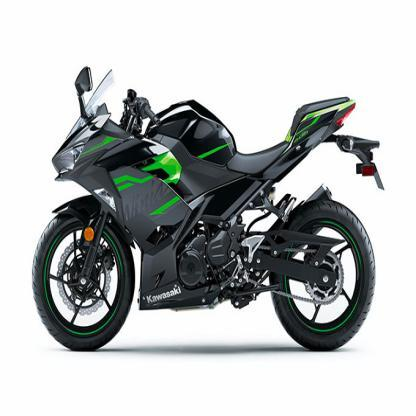Motorcycle: (30, 50, 385, 360)
